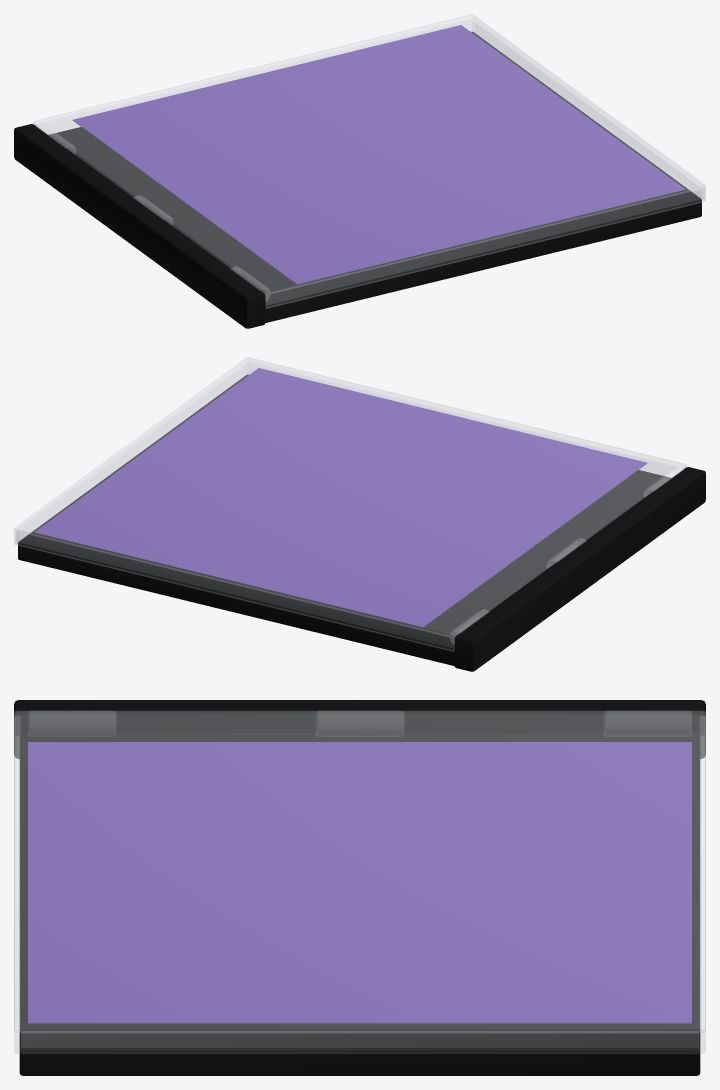
Rendered from SM_CDCase.glb.
The picture shows the model from 3 angles, top to bottom: view 1: azimuth 30°, elevation 25°; view 2: azimuth 150°, elevation 25°; view 3: azimuth 270°, elevation 25°; orthographic projection. The views are drawn at different scales.
Parts seen in each view (by area): view 1: SM_CDCase; view 2: SM_CDCase; view 3: SM_CDCase.
Part boxes in pixels (x1,y1,x2,y2): SM_CDCase: (14,14,705,328); SM_CDCase: (14,357,705,671); SM_CDCase: (14,700,705,1075).
Size of the model in its own units: 0.142 by 0.01 by 0.125.
